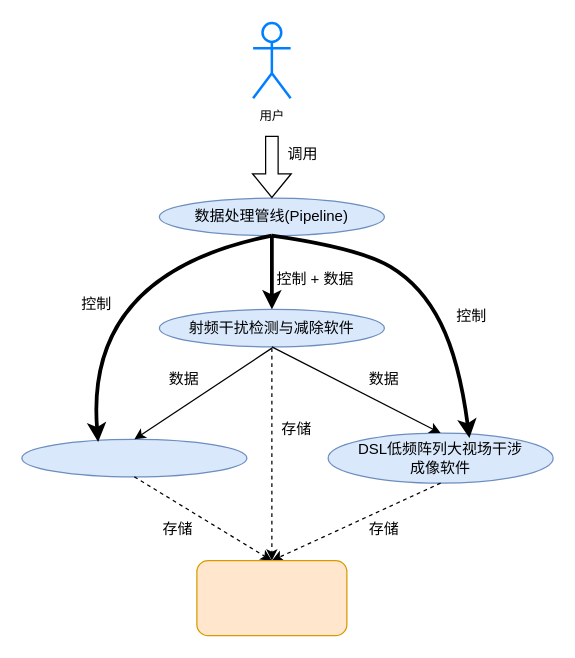
This 575x658 diagram has some shape labels left out. Each missing label, with the centre of its shape:
"DSL频谱数据分析软件" goes at pixel 134 457.
"数据管理与用户服务分系统" goes at pixel 271 597.
